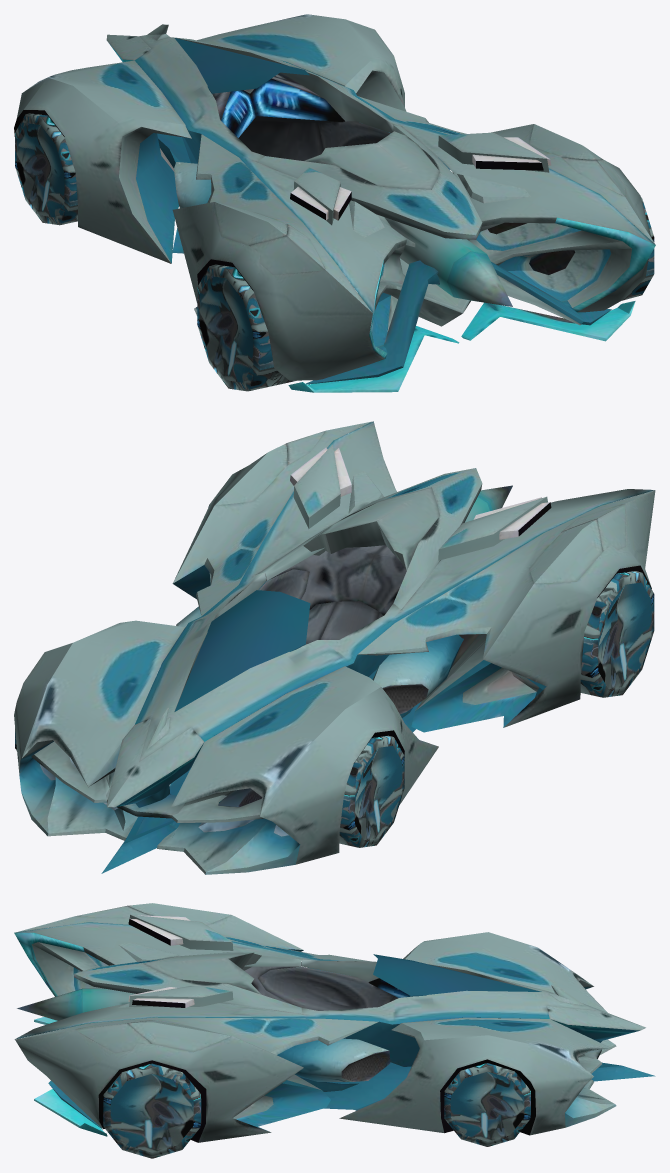
3 renders of one model, top to bottom at view 1: azimuth 30°, elevation 25°; view 2: azimuth 150°, elevation 25°; view 3: azimuth 270°, elevation 25°, orthographic. The views are drawn at different scales.
Parts seen in each view (by area): view 1: body; view 2: body; view 3: body.
Part boxes in pixels (left/top/right/bottom): body: left=14, top=14, right=655, bottom=392; body: left=14, top=421, right=655, bottom=874; body: left=14, top=903, right=655, bottom=1158.
Size of the model in its own units: 2.72 by 1.09 by 4.89.
Materials: 1 (1 with a texture image).
